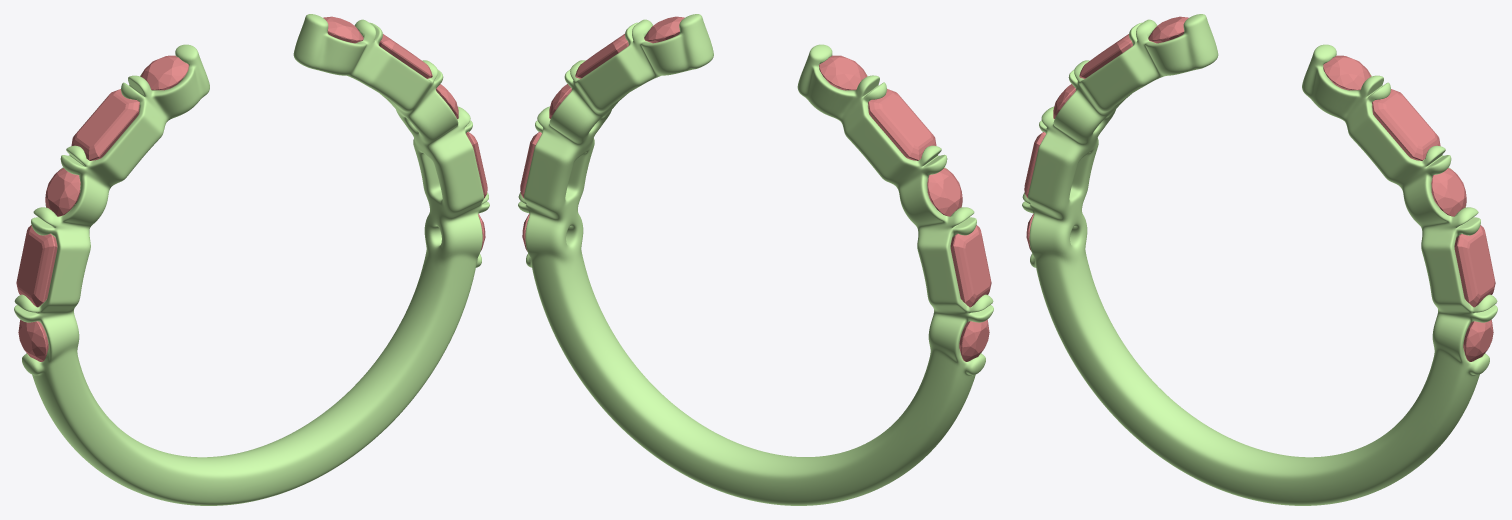
File: BE2D8310_RENDER.glb
3 renders of one model, left to right at view 1: azimuth 30°, elevation 25°; view 2: azimuth 150°, elevation 25°; view 3: azimuth 330°, elevation 25°, orthographic.
Visible parts, largest first — view 1: Metal03, Diamond_Emerald_Gem_BD.001, Diamond_Emerald_Gem_BD.002, Diamond_Round_Gem_BD, Diamond_Round_Gem_BD.001, Diamond_Round_Gem_BD.005, Diamond_Emerald_Gem_BD.003, Diamond_Round_Gem_BD.002; view 2: Metal03, Diamond_Emerald_Gem_BD.001, Diamond_Emerald_Gem_BD.002, Diamond_Round_Gem_BD, Diamond_Round_Gem_BD.001, Diamond_Round_Gem_BD.005, Diamond_Emerald_Gem_BD.003, Diamond_Round_Gem_BD.002; view 3: Metal03, Diamond_Emerald_Gem_BD.003, Diamond_Emerald_Gem_BD, Diamond_Round_Gem_BD.004, Diamond_Round_Gem_BD.002, Diamond_Round_Gem_BD.003, Diamond_Emerald_Gem_BD.001, Diamond_Round_Gem_BD.001.
Part boxes in pixels (<box>): Metal03: <box>14,14,489,505</box>; Diamond_Emerald_Gem_BD.001: <box>71,89,139,160</box>; Diamond_Emerald_Gem_BD.002: <box>16,225,57,307</box>; Diamond_Round_Gem_BD: <box>45,168,80,216</box>; Diamond_Round_Gem_BD.001: <box>140,55,188,90</box>; Diamond_Round_Gem_BD.005: <box>18,320,48,361</box>; Diamond_Emerald_Gem_BD.003: <box>379,34,432,78</box>; Diamond_Round_Gem_BD.002: <box>323,16,363,43</box>; Metal03: <box>518,14,993,505</box>; Diamond_Emerald_Gem_BD.001: <box>868,89,936,160</box>; Diamond_Emerald_Gem_BD.002: <box>950,225,991,307</box>; Diamond_Round_Gem_BD: <box>927,168,962,216</box>; Diamond_Round_Gem_BD.001: <box>819,55,867,90</box>; Diamond_Round_Gem_BD.005: <box>959,319,989,361</box>; Diamond_Emerald_Gem_BD.003: <box>575,34,628,78</box>; Diamond_Round_Gem_BD.002: <box>644,16,684,43</box>; Metal03: <box>1022,14,1497,505</box>; Diamond_Emerald_Gem_BD.003: <box>1372,89,1440,160</box>; Diamond_Emerald_Gem_BD: <box>1454,225,1495,307</box>; Diamond_Round_Gem_BD.004: <box>1431,168,1466,216</box>; Diamond_Round_Gem_BD.002: <box>1323,55,1371,90</box>; Diamond_Round_Gem_BD.003: <box>1463,319,1493,361</box>; Diamond_Emerald_Gem_BD.001: <box>1079,34,1132,78</box>; Diamond_Round_Gem_BD.001: <box>1148,16,1188,43</box>.
Size of the model in its own units: 20.95 by 19.93 by 2.4.
